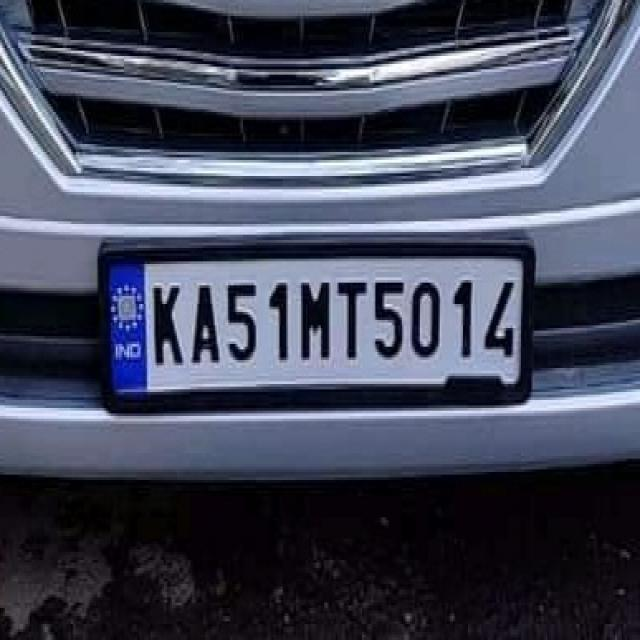0: (412, 274, 444, 363)
1: (266, 276, 291, 368), (453, 274, 476, 366)
4: (484, 271, 518, 372)
5: (224, 276, 262, 368), (372, 268, 404, 362)
A: (189, 278, 221, 373)
K: (152, 280, 188, 370)
M: (296, 274, 333, 365)
T: (336, 276, 368, 366)
